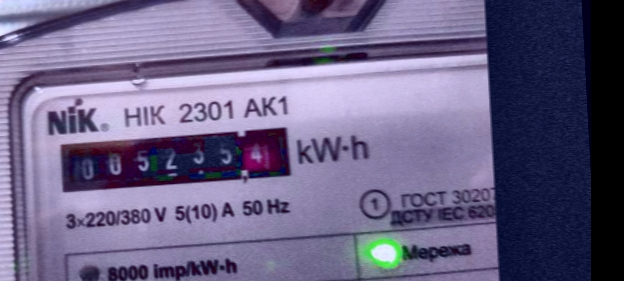0: (80, 152, 96, 178), (108, 149, 124, 173)
2: (162, 142, 180, 169)
3: (189, 137, 207, 163)
4: (247, 134, 267, 164)
5: (217, 135, 234, 164), (135, 144, 151, 170)
screen: (47, 113, 301, 199)
